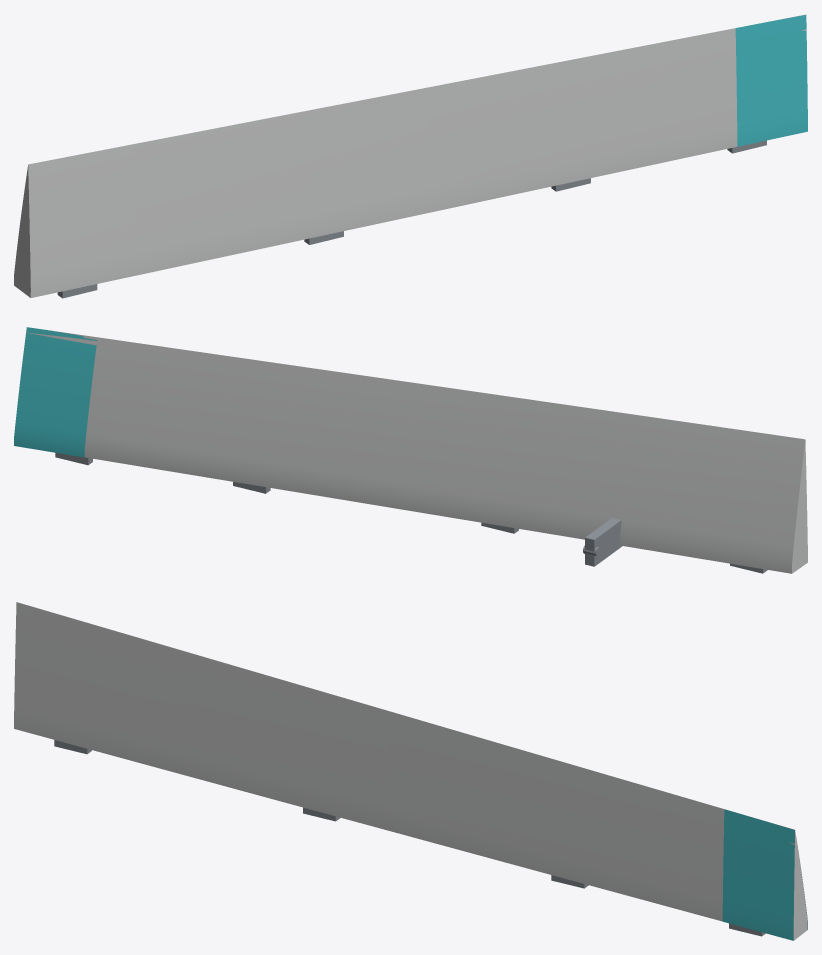
The model's file is aleron.glb.
3 renders of one model, top to bottom at view 1: azimuth 30°, elevation 25°; view 2: azimuth 150°, elevation 25°; view 3: azimuth 330°, elevation 25°, orthographic. The views are drawn at different scales.
Visible parts, largest first — view 1: Aleron; view 2: Aleron; view 3: Aleron.
Boxes of the visible parts, x1,y1,x2,y2 form: Aleron: [14, 14, 807, 298]; Aleron: [14, 327, 807, 573]; Aleron: [14, 602, 807, 940].
Size of the model in its own units: 0.242 by 0.0532 by 0.0255.
